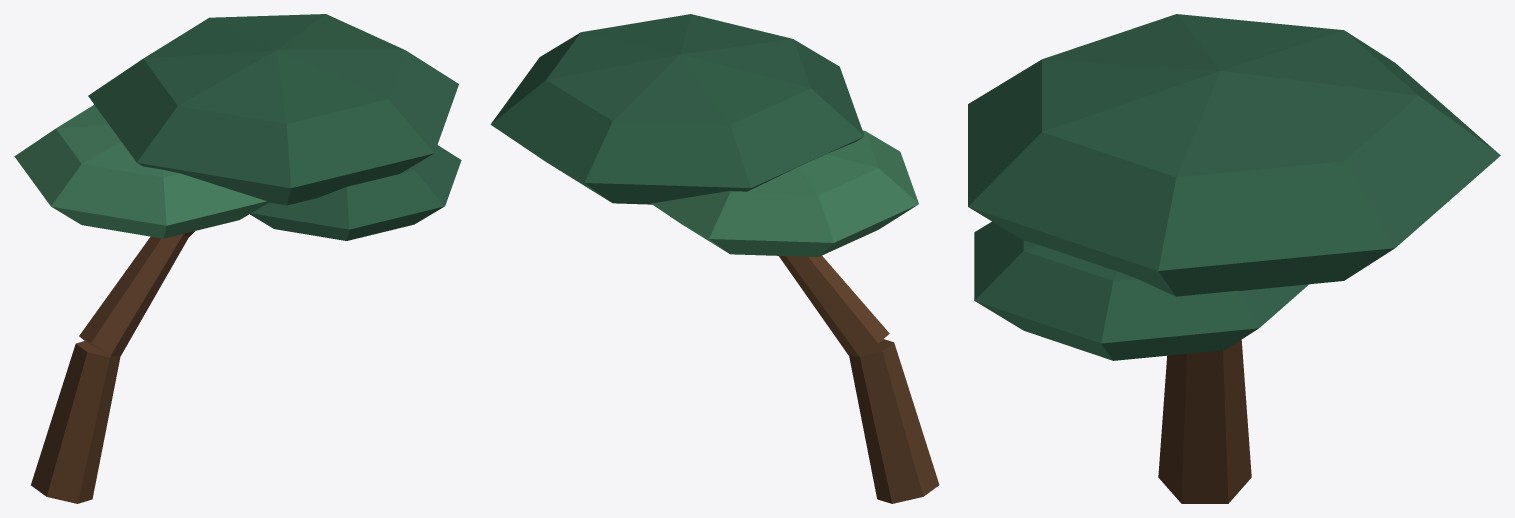
File: nature_pine_c.glb
3 views of the same model, side by side, from view 1: azimuth 30°, elevation 25°; view 2: azimuth 150°, elevation 25°; view 3: azimuth 270°, elevation 25° (orthographic). The views are drawn at different scales.
Parts seen in each view (by area): view 1: nature_pine_c; view 2: nature_pine_c; view 3: nature_pine_c.
Boxes of the visible parts, box(x1,y1,x2,y2) form: nature_pine_c: box(14, 14, 461, 503); nature_pine_c: box(490, 14, 939, 503); nature_pine_c: box(968, 14, 1500, 503).
Size of the model in its own units: 4.4 by 4.07 by 3.42.
